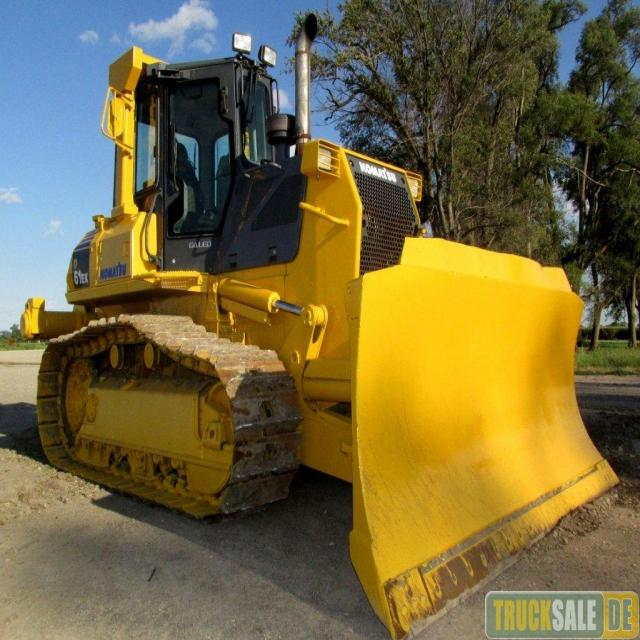Bulldozer: (15, 23, 626, 630)
